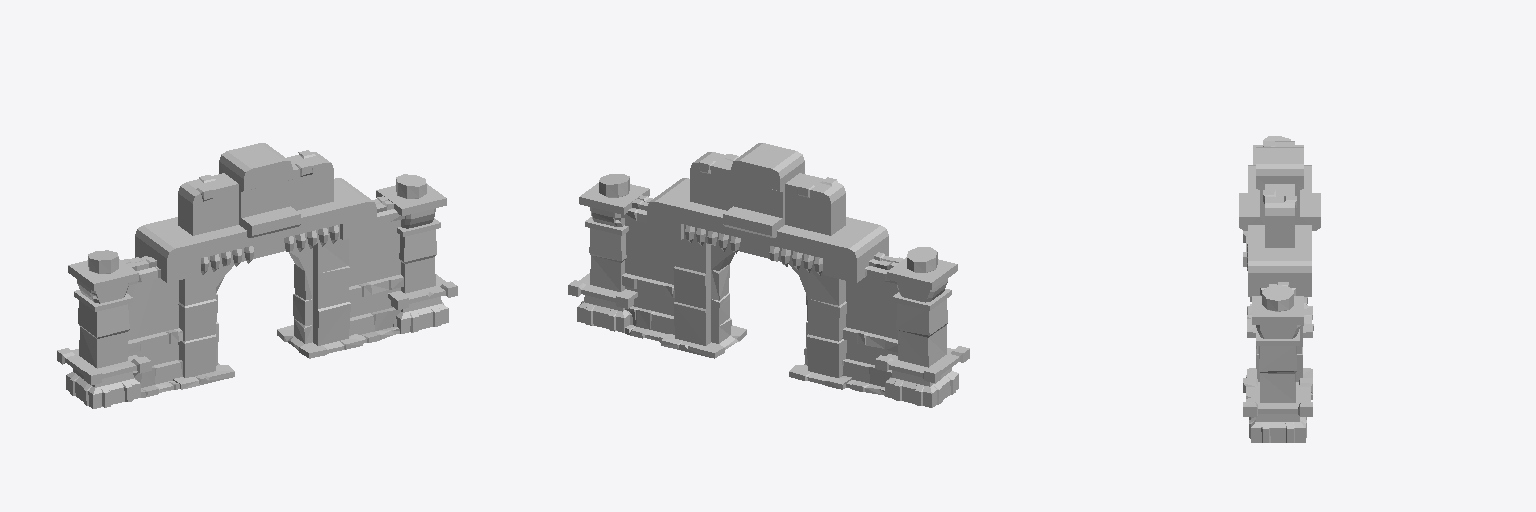
The model's file is Arch.obj.
The picture shows the model from 3 angles: view 1: azimuth 30°, elevation 25°; view 2: azimuth 150°, elevation 25°; view 3: azimuth 270°, elevation 25°; orthographic projection.
Visible parts, largest first — view 1: arch; view 2: arch; view 3: arch.
Part boxes in pixels (x1,y1,x2,y2): arch: (57, 143, 457, 408); arch: (568, 143, 969, 407); arch: (1239, 136, 1320, 442).
Size of the model in its own units: 1315 by 686 by 257.